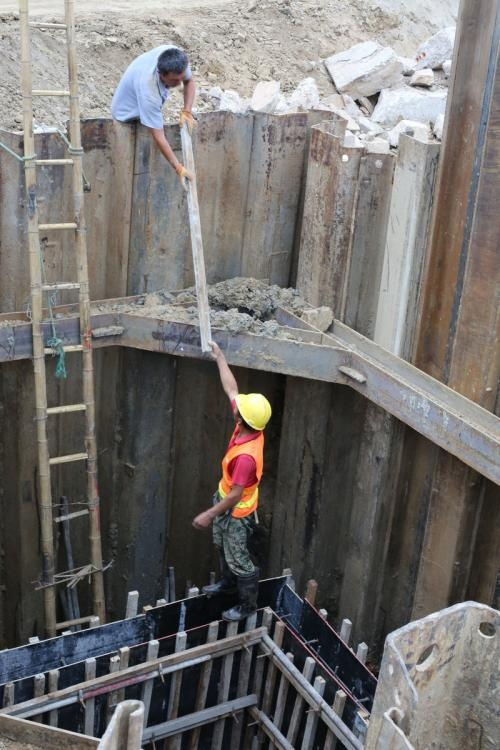none: (154, 44, 192, 94)
yellow: (230, 387, 271, 440)
